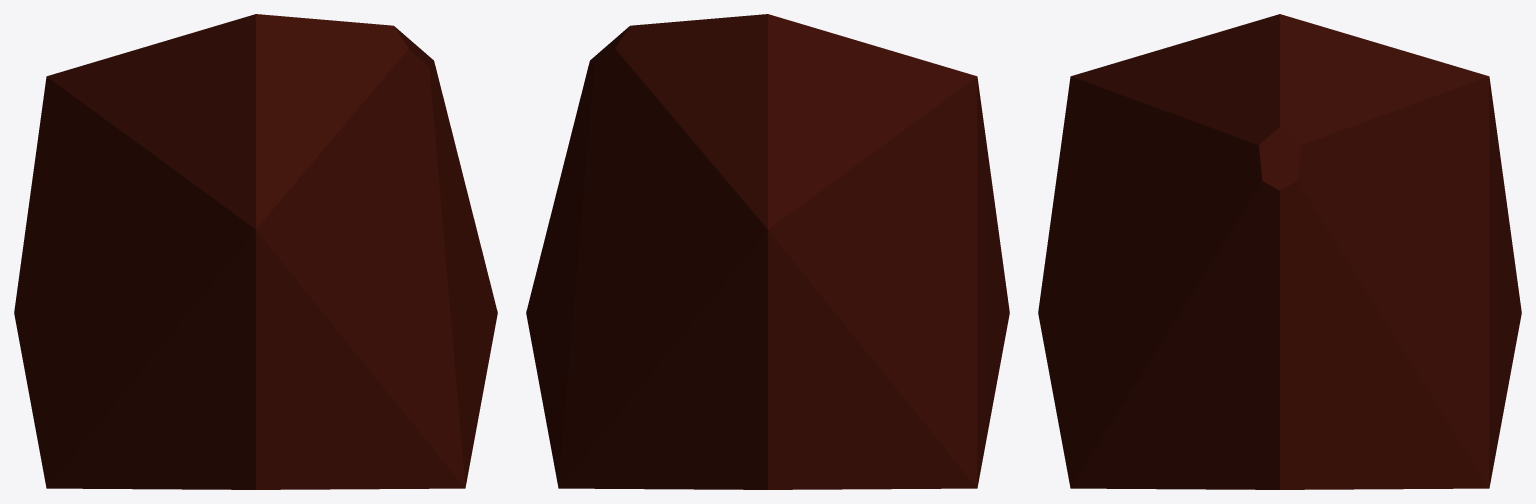
File: seed.fbx
The picture shows the model from 3 angles, left to right: view 1: azimuth 30°, elevation 25°; view 2: azimuth 150°, elevation 25°; view 3: azimuth 270°, elevation 25°; orthographic projection.
Parts seen in each view (by area): view 1: GeoSphere001; view 2: GeoSphere001; view 3: GeoSphere001.
Part boxes in pixels (left/top/right/bottom): GeoSphere001: left=14, top=14, right=497, bottom=489; GeoSphere001: left=526, top=14, right=1009, bottom=489; GeoSphere001: left=1038, top=14, right=1521, bottom=489.
Bounding box in the file's own units: 4.34 × 3.89 × 4.02.
